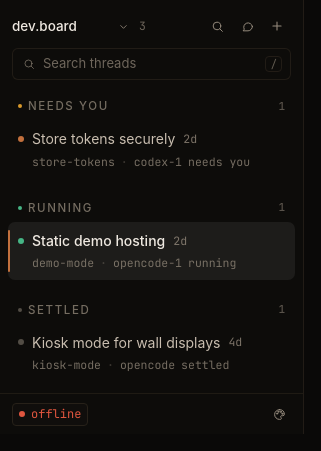
InboxPane › filters by title, id, and backend and clears without losing data
In the search field with test id "thread-search": x=150, y=64 left=35, top=54, right=265, bottom=74, type "kiosk"
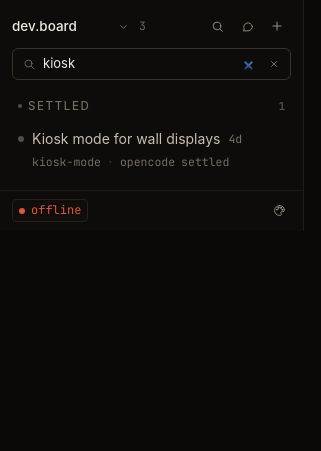
Expected: the text "Kiosk mode for wall displays" is shown, left=32, top=128, right=220, bottom=150
Expected: the button "Static demo hosting" is gone
Clear the search field with test id "thread-search": x=150, y=64 left=35, top=54, right=264, bottom=74
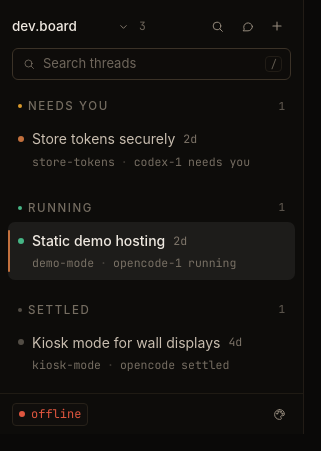
In the search field with test id "thread-search": x=150, y=64 left=35, top=54, right=265, bottom=74, type "codex"
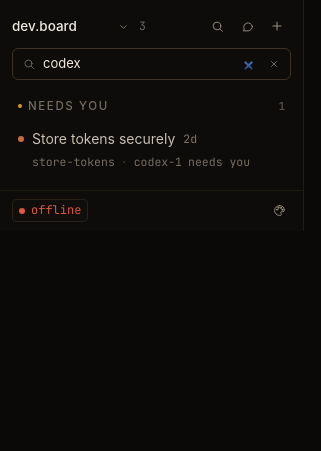
Expected: the text "Store tokens securely" is shown, left=32, top=128, right=175, bottom=150
Expected: the button "Kiosk mode for wall displays" is gone
Clear the search field with test id "thread-search": x=150, y=64 left=35, top=54, right=264, bottom=74
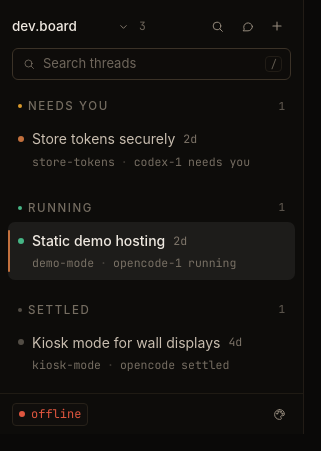
In the search field with test id "thread-search": x=150, y=64 left=35, top=54, right=265, bottom=74, type "nothing here"
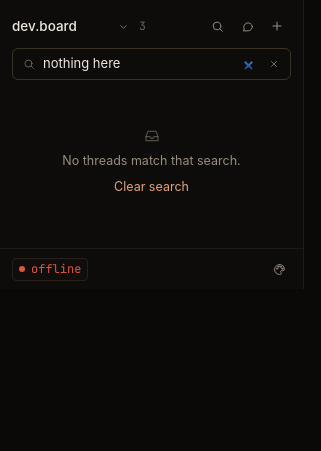
Expected: the text "No threads match that search." is shown, left=62, top=153, right=241, bottom=168
Click the button "Clear search": x=152, y=187 left=114, top=178, right=189, bottom=196
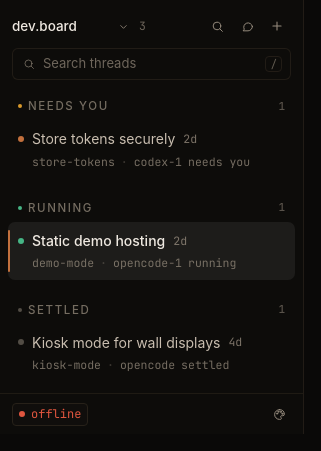
Expected: the text "Kiosk mode for wall displays" is shown, left=32, top=332, right=220, bottom=353
